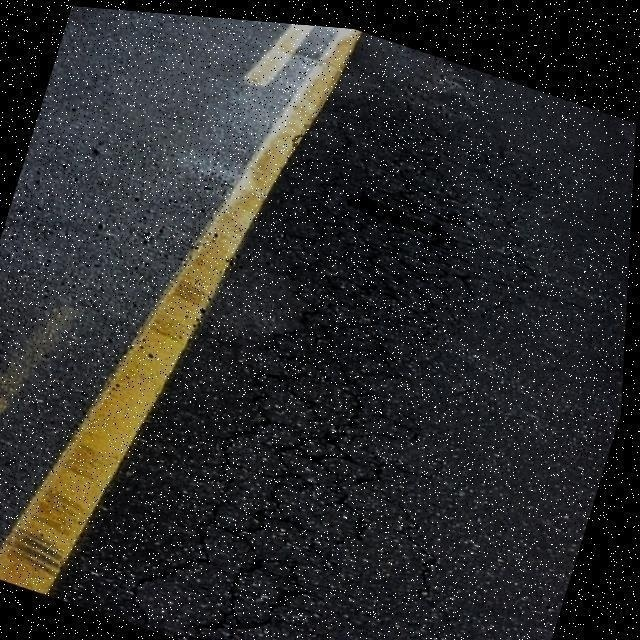pothole: (335, 170, 467, 254)
